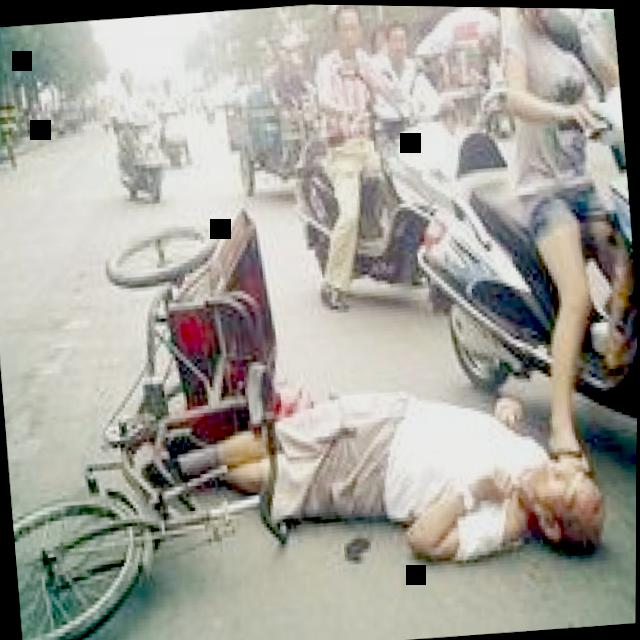Fall-Detected: (191, 330, 625, 600)
